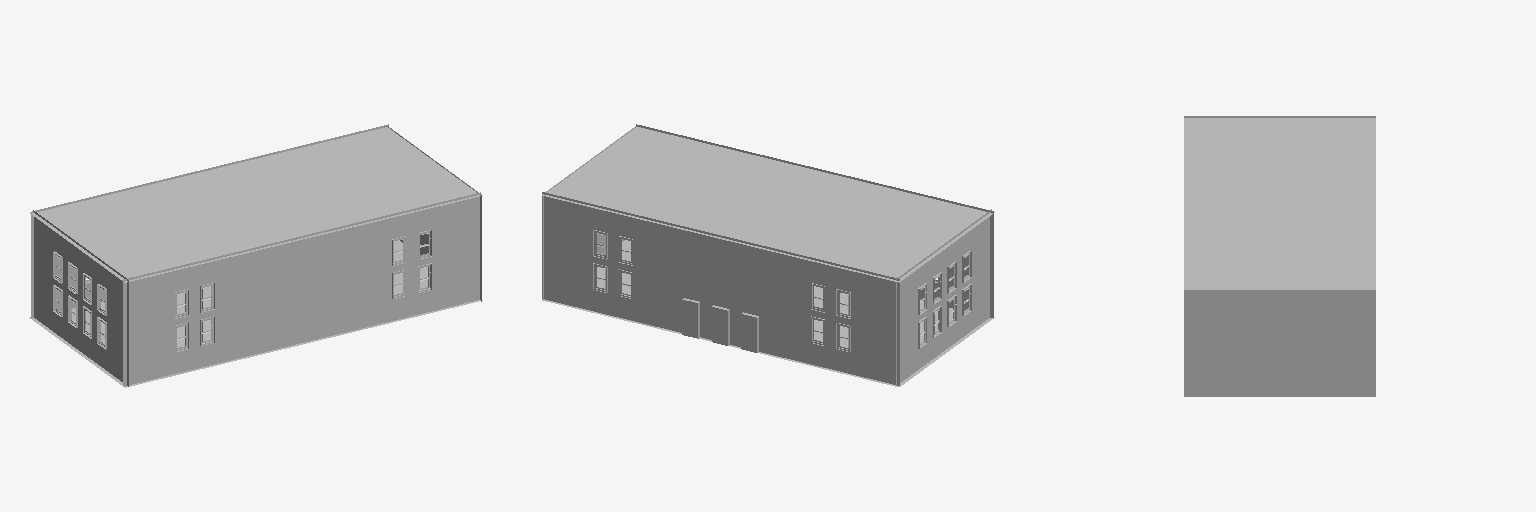
The model's file is bank_inside.obj.
The picture shows the model from 3 angles: view 1: azimuth 30°, elevation 25°; view 2: azimuth 150°, elevation 25°; view 3: azimuth 270°, elevation 25°; orthographic projection.
Visible parts, largest first — view 1: Cube.012, Cube.001_Cube.007, Cube.011, Cube.013, Cube.001_Cube.014; view 2: Cube.001_Cube.014, Cube.001_Cube.007, Cube.011, Cube.013, Cube.012, SM_Prop_Door_01.004_Mesh.001, SM_Prop_Door_01.003_Mesh.001, SM_Prop_Door_01.005_Mesh.001; view 3: Cube.001_Cube.007, Cube.003_Cube.008.
Boxes of the visible parts, x1=… form: Cube.012: x1=123, y1=192, x2=480, y2=386; Cube.001_Cube.007: x1=30, y1=127, x2=482, y2=282; Cube.011: x1=33, y1=210, x2=128, y2=386; Cube.013: x1=29, y1=241, x2=482, y2=387; Cube.001_Cube.014: x1=31, y1=124, x2=388, y2=318; Cube.001_Cube.014: x1=542, y1=192, x2=899, y2=385; Cube.001_Cube.007: x1=542, y1=126, x2=994, y2=282; Cube.011: x1=896, y1=209, x2=991, y2=385; Cube.013: x1=542, y1=240, x2=994, y2=386; Cube.012: x1=636, y1=124, x2=993, y2=317; SM_Prop_Door_01.004_Mesh.001: x1=712, y1=305, x2=729, y2=345; SM_Prop_Door_01.003_Mesh.001: x1=682, y1=298, x2=699, y2=338; SM_Prop_Door_01.005_Mesh.001: x1=741, y1=312, x2=758, y2=352; Cube.001_Cube.007: x1=1184, y1=118, x2=1375, y2=289; Cube.003_Cube.008: x1=1184, y1=290, x2=1375, y2=396.
Bounding box in the file's own units: 28.08 × 8.1 × 13.05.